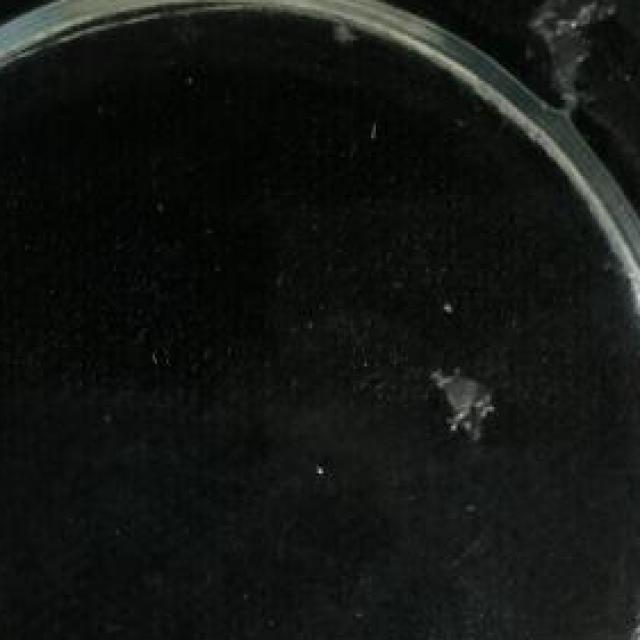Microplastic: (497, 0, 624, 119), (412, 352, 517, 452)
